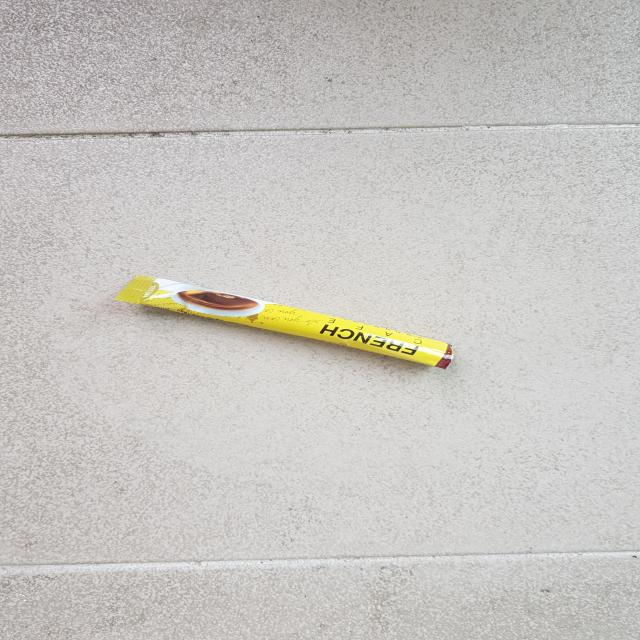litter: (112, 273, 455, 370)
